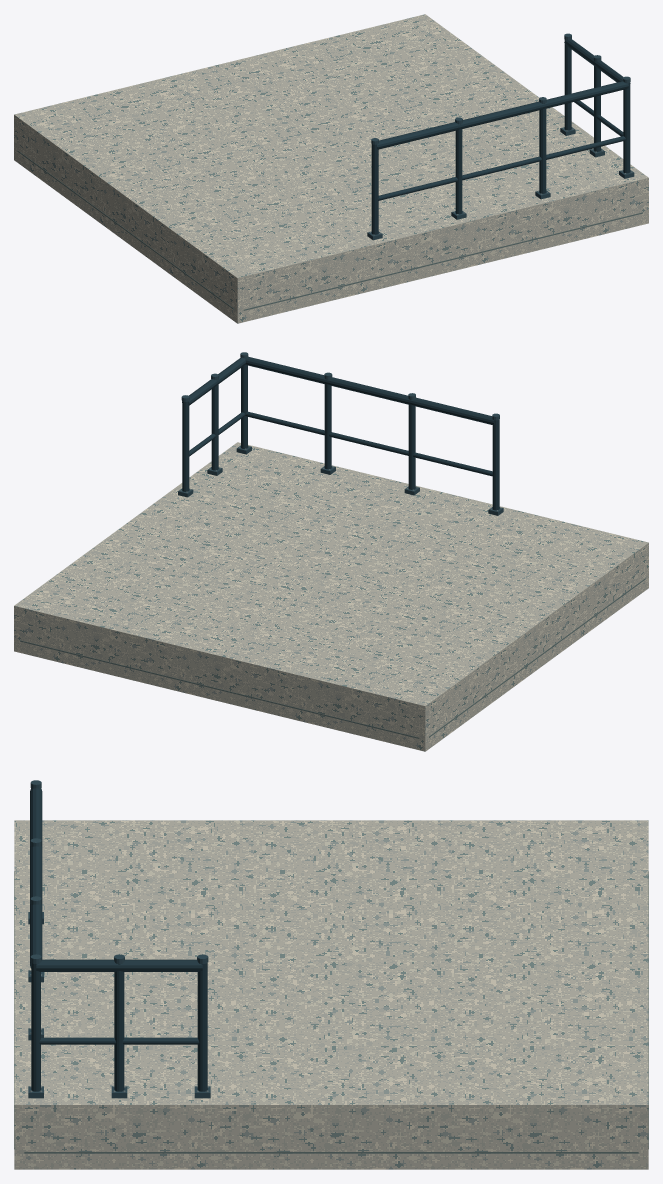
Rendered from b_platform_landing.glb.
The picture shows the model from 3 angles, top to bottom: view 1: azimuth 30°, elevation 25°; view 2: azimuth 150°, elevation 25°; view 3: azimuth 270°, elevation 25°; orthographic projection. The views are drawn at different scales.
Visible parts, largest first — view 1: b_platform_landing, b_platform_landing_guard_0_top, b_platform_landing_guard_0_low, b_platform_landing_front_reveal_1, b_platform_landing_guard_0_post_0, b_platform_landing_guard_0_post_3, b_platform_landing_guard_0_post_2, b_platform_landing_guard_0_post_1, b_platform_landing_guard_1_post_0, b_platform_landing_guard_1_top, b_platform_landing_guard_1_post_1; view 2: b_platform_landing, b_platform_landing_guard_0_top, b_platform_landing_guard_0_low, b_platform_landing_front_reveal_-1, b_platform_landing_guard_1_post_0, b_platform_landing_guard_0_post_0, b_platform_landing_guard_0_post_2, b_platform_landing_guard_0_post_1, b_platform_landing_guard_1_post_1, b_platform_landing_guard_1_top; view 3: b_platform_landing, b_platform_landing_guard_1_top, b_platform_landing_guard_0_top, b_platform_landing_guard_1_post_0, b_platform_landing_guard_1_post_1, b_platform_landing_guard_0_post_3, b_platform_landing_side_reveal_1, b_platform_landing_guard_1_low.
Boxes of the visible parts, box(x1,y1,x2,y2) form: b_platform_landing: box(14, 14, 648, 323); b_platform_landing_guard_0_top: box(377, 81, 628, 149); b_platform_landing_guard_0_low: box(378, 136, 625, 200); b_platform_landing_front_reveal_1: box(243, 212, 642, 310); b_platform_landing_guard_0_post_0: box(371, 144, 378, 234); b_platform_landing_guard_0_post_3: box(623, 83, 630, 173); b_platform_landing_guard_0_post_2: box(539, 103, 546, 193); b_platform_landing_guard_0_post_1: box(455, 124, 462, 214); b_platform_landing_guard_1_post_0: box(564, 40, 571, 130); b_platform_landing_guard_1_top: box(564, 39, 630, 83); b_platform_landing_guard_1_post_1: box(594, 61, 600, 151); b_platform_landing: box(14, 442, 648, 751); b_platform_landing_guard_0_top: box(245, 356, 494, 424); b_platform_landing_guard_0_low: box(245, 411, 492, 476); b_platform_landing_front_reveal_-1: box(20, 640, 419, 738); b_platform_landing_guard_1_post_0: box(182, 401, 189, 491); b_platform_landing_guard_0_post_0: box(492, 419, 499, 510); b_platform_landing_guard_0_post_2: box(324, 379, 331, 469); b_platform_landing_guard_0_post_1: box(408, 399, 415, 489); b_platform_landing_guard_1_post_1: box(211, 380, 218, 470); b_platform_landing_guard_1_top: box(182, 357, 245, 405); b_platform_landing: box(14, 820, 648, 1169); b_platform_landing_guard_1_top: box(36, 959, 202, 971); b_platform_landing_guard_0_top: box(30, 788, 42, 968); b_platform_landing_guard_1_post_0: box(197, 963, 207, 1091); b_platform_landing_guard_1_post_1: box(114, 964, 124, 1091); b_platform_landing_guard_0_post_3: box(31, 963, 40, 1091); b_platform_landing_side_reveal_1: box(24, 1152, 638, 1153); b_platform_landing_guard_1_low: box(39, 1037, 199, 1044).
Size of the model in its own units: 3.4 by 1.13 by 3.2.
5 materials, 1 textured.
